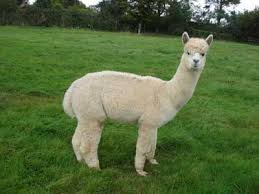alpaca: (62, 31, 213, 176)
